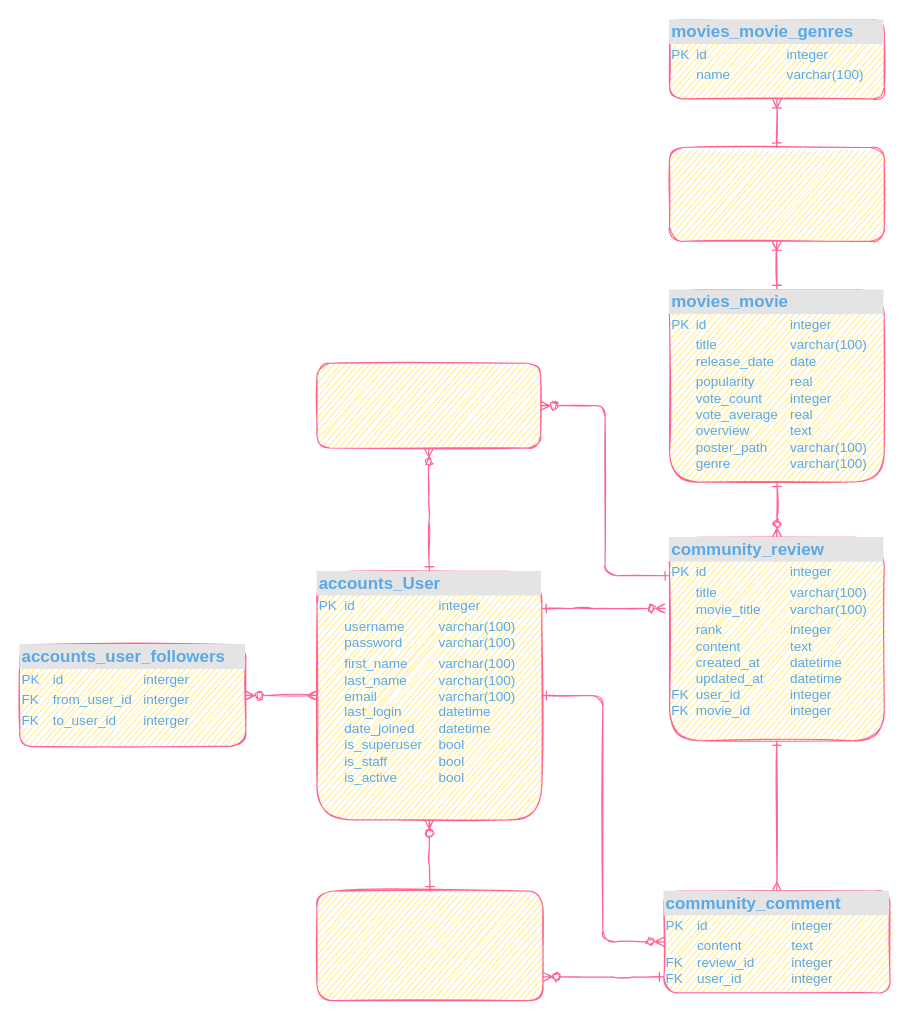
The diagram is 910 pixels wide and 1020 high, and some of its shapes have lost their labels. Here are the shapes that lost their labels. From the top down, the centre of each, then its label:
point 776,193: movies_movie_genres PK id integer movie_id integer genre_id integer
point 428,405: community_review_like PK id integer FK FK review_id integer user_id integer
point 429,945: community_comment_like PK id integer FK FK comment_id integer user_id integer
